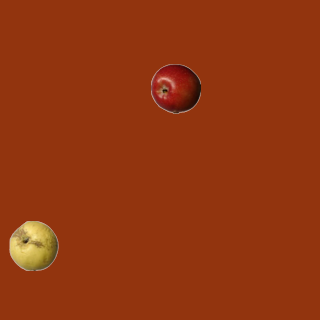Apple Braeburn: (150, 63, 200, 113)
Apple Golden 1: (8, 220, 58, 270)
